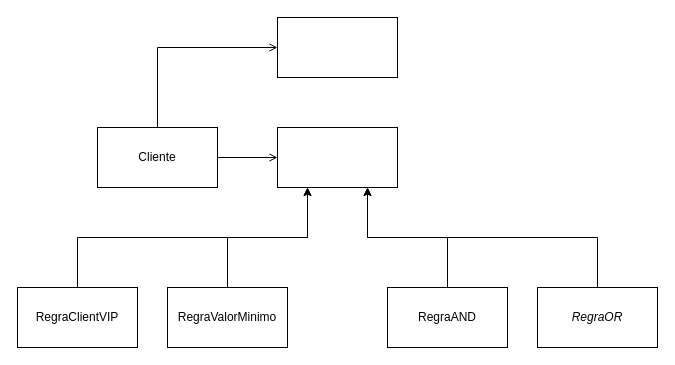
Some shapes in this 675 by 365 pixel diagram are drawn without their labels. The box of each missing label's shape, as (x1, y1, x2, y2) in pixels:
<<interface>> InterpretadorRegra: (276, 126, 398, 188)
Contexto: (276, 16, 398, 78)
